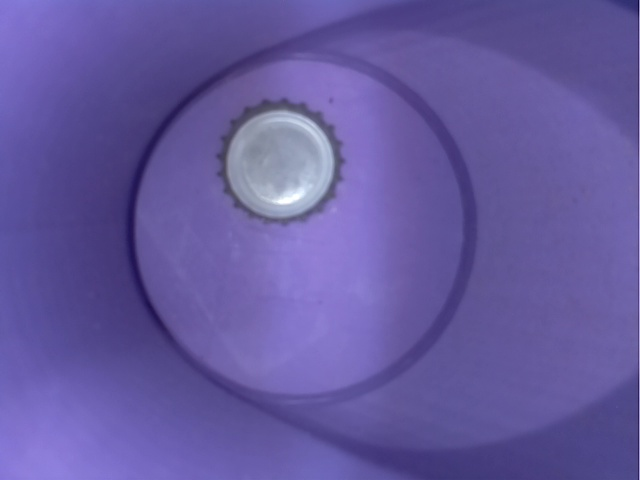capsule: (204, 94, 357, 238)
